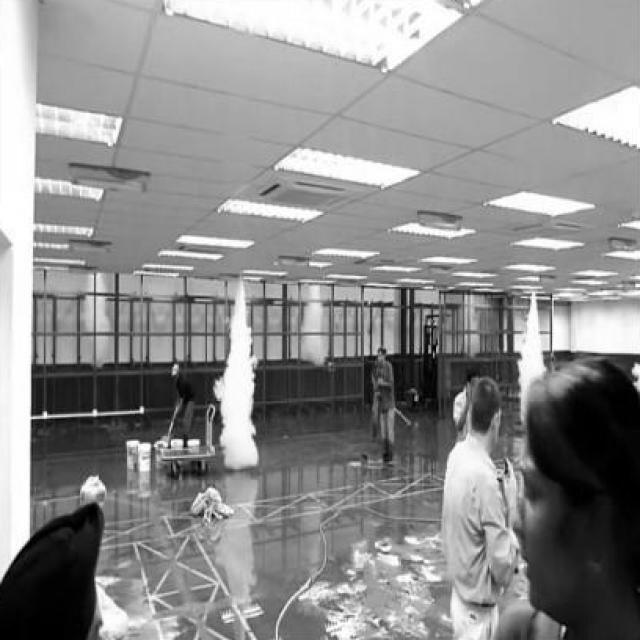fire: (212, 282, 260, 479), (505, 296, 546, 394), (296, 283, 332, 365)
